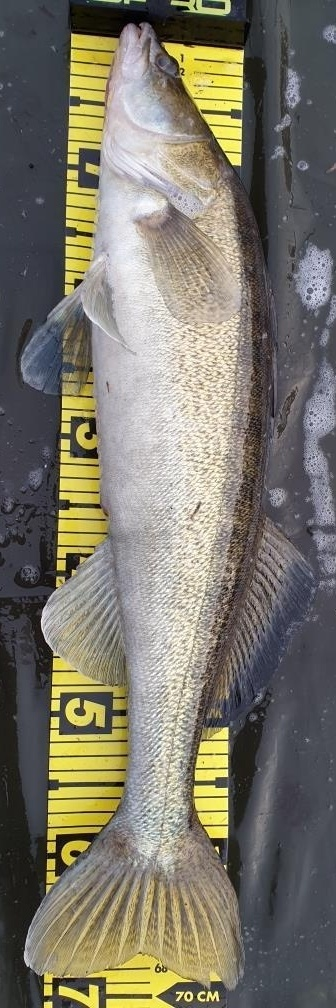Sander lucioperca: (20, 19, 316, 989)
